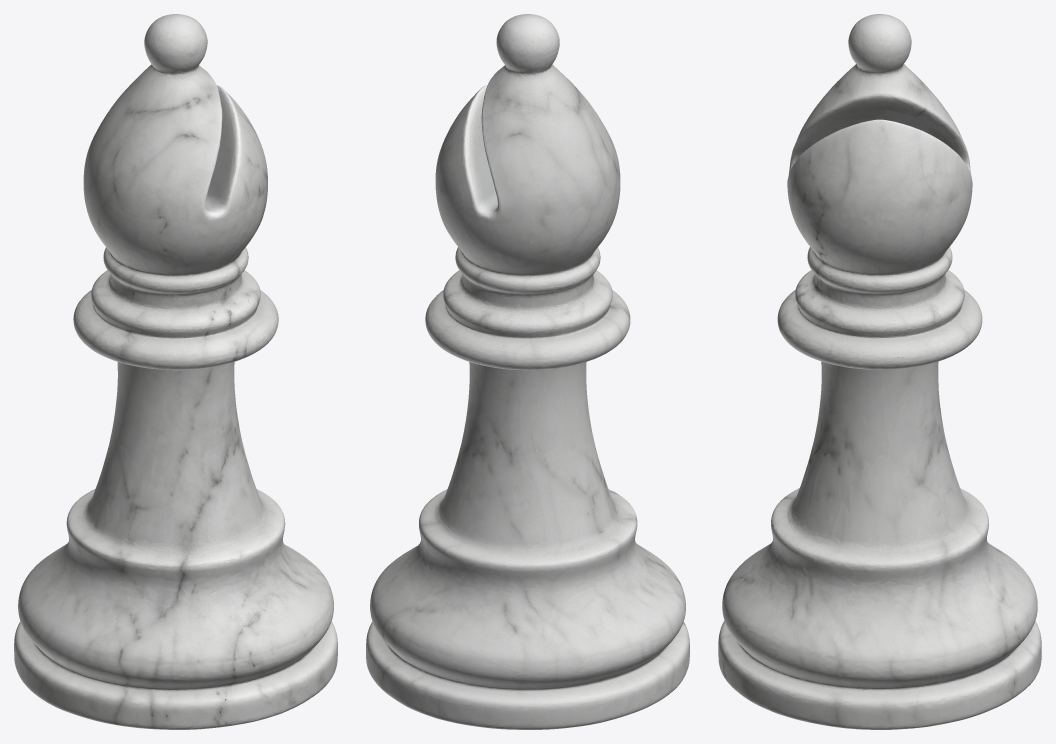
The model's file is bishop.glb.
The picture shows the model from 3 angles, left to right: view 1: azimuth 30°, elevation 25°; view 2: azimuth 150°, elevation 25°; view 3: azimuth 270°, elevation 25°; orthographic projection.
Visible parts, largest first — view 1: Mesh_0; view 2: Mesh_0; view 3: Mesh_0.
Part boxes in pixels (x1,y1,x2,y2): Mesh_0: [14, 14, 337, 729]; Mesh_0: [366, 14, 689, 729]; Mesh_0: [718, 14, 1041, 729].
Size of the model in its own units: 0.8611 by 1.9 by 0.8611.
Materials: 1 (1 with a texture image).
